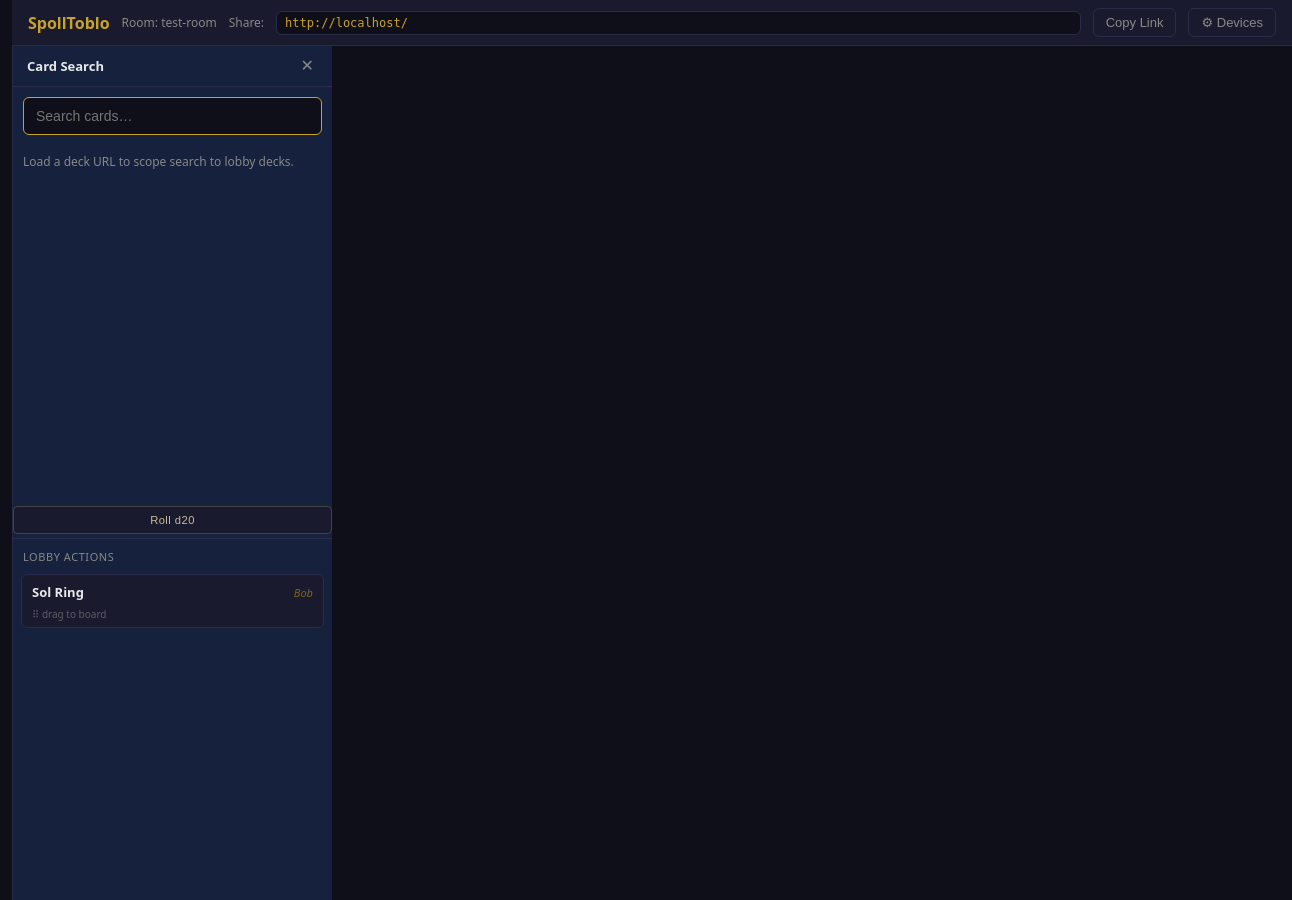
Test: Room — lobbyActions state management › Roll d20 button adds a roll entry and does not crash when card entries are present
Click the button "Roll d20". click: (172, 520)
box: [13,506,332,534]
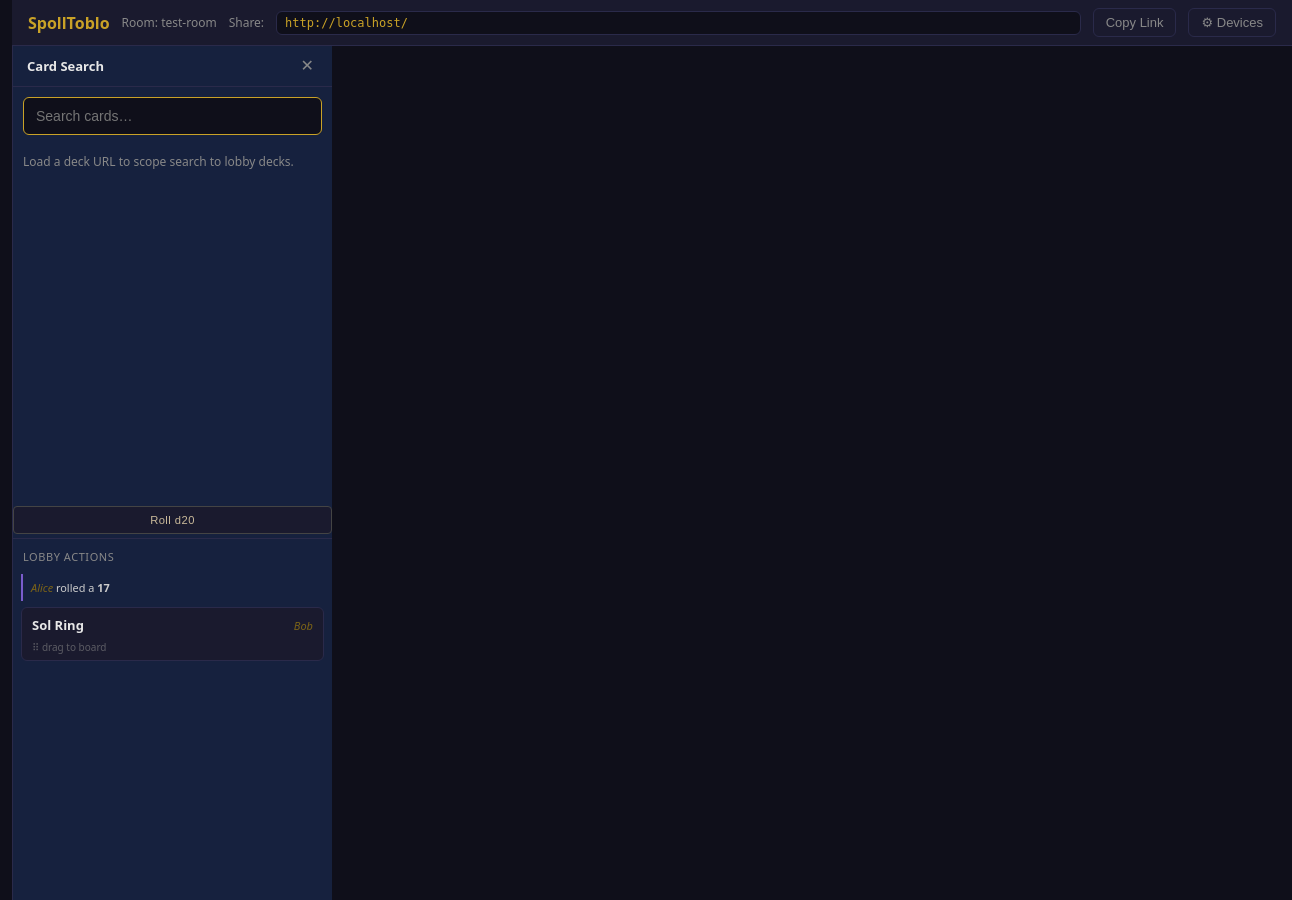
Expected: the text "Sol Ring" is shown, [32,616,84,634]
Result: the element with class "action-roll-entry" is shown at [21,574,324,601]
